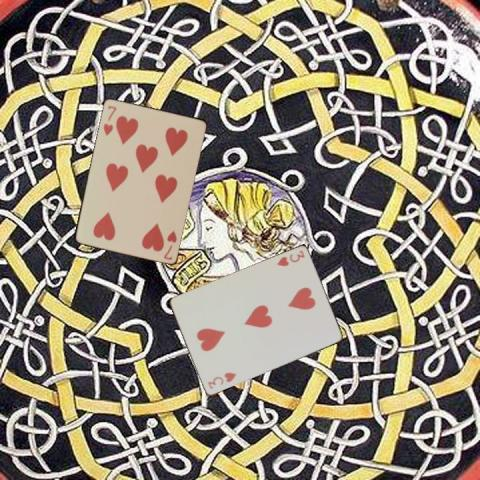3h: (205, 369, 237, 391), (274, 247, 306, 268)
7h: (100, 103, 117, 137), (161, 228, 178, 262)
